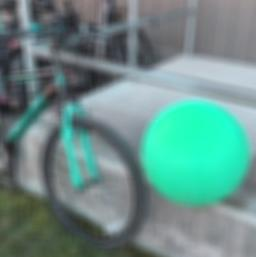algae: (138, 96, 251, 205)
